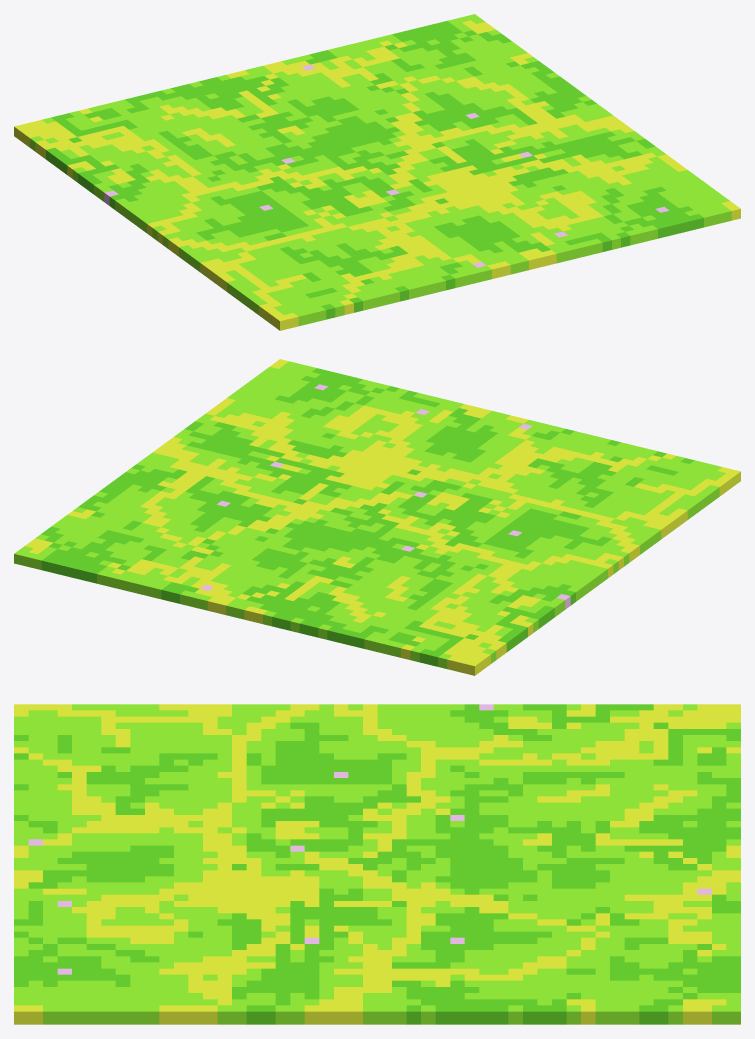
File: map.obj
The picture shows the model from 3 angles, top to bottom: view 1: azimuth 30°, elevation 25°; view 2: azimuth 150°, elevation 25°; view 3: azimuth 270°, elevation 25°; orthographic projection. The views are drawn at different scales.
Parts seen in each view (by area): view 1: map; view 2: map; view 3: map.
Part boxes in pixels (left/top/right/bottom): map: left=14, top=14, right=740, bottom=330; map: left=14, top=359, right=740, bottom=675; map: left=14, top=704, right=740, bottom=1024.
Size of the model in its own units: 50 by 1 by 50.
1 material, 1 textured.
